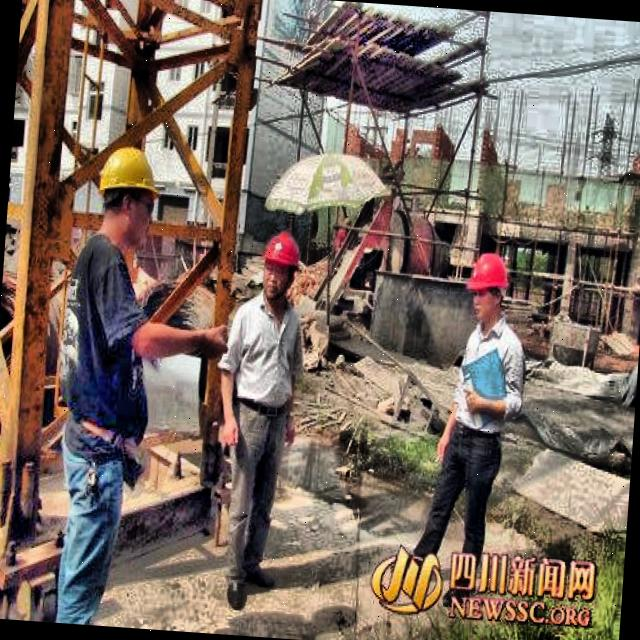helmet: (84, 135, 170, 256), (461, 236, 518, 332), (256, 222, 308, 304)
